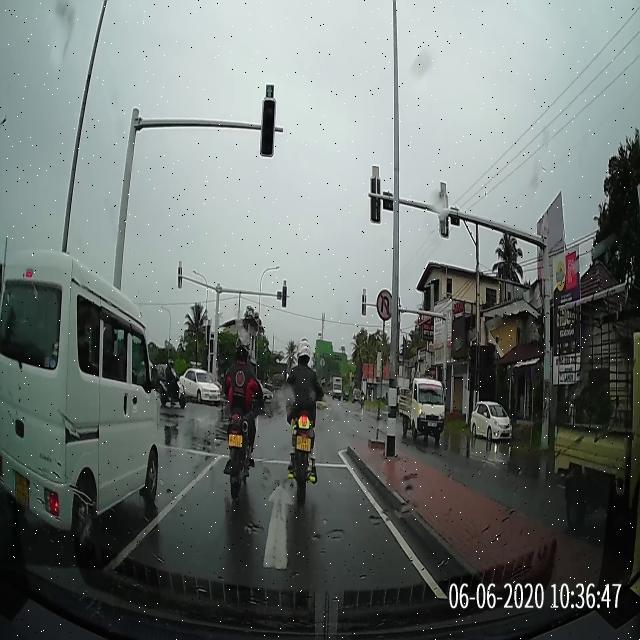forward: (106, 475, 445, 588)
